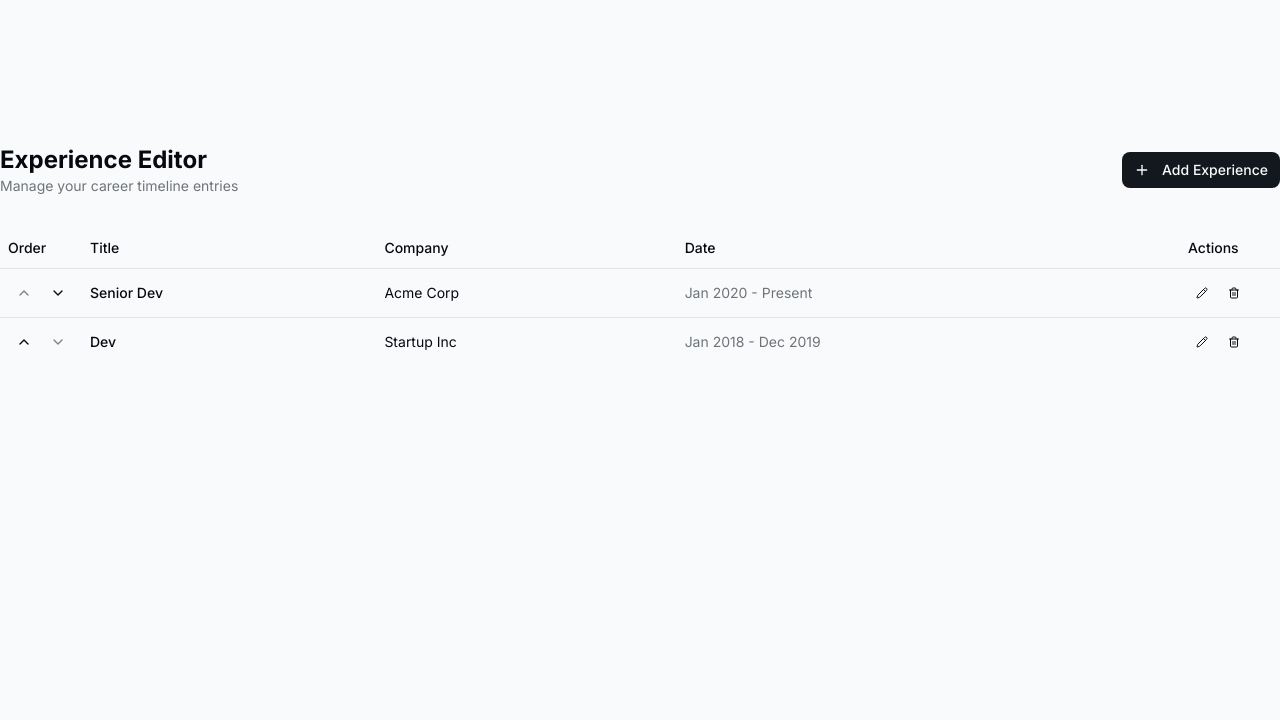
Test: ExperienceEditor › displays error message when create fails
This screenshot has width=1280, height=720.
Click the button "Add Experience".
click(1201, 170)  # box [1122,152,1279,188]
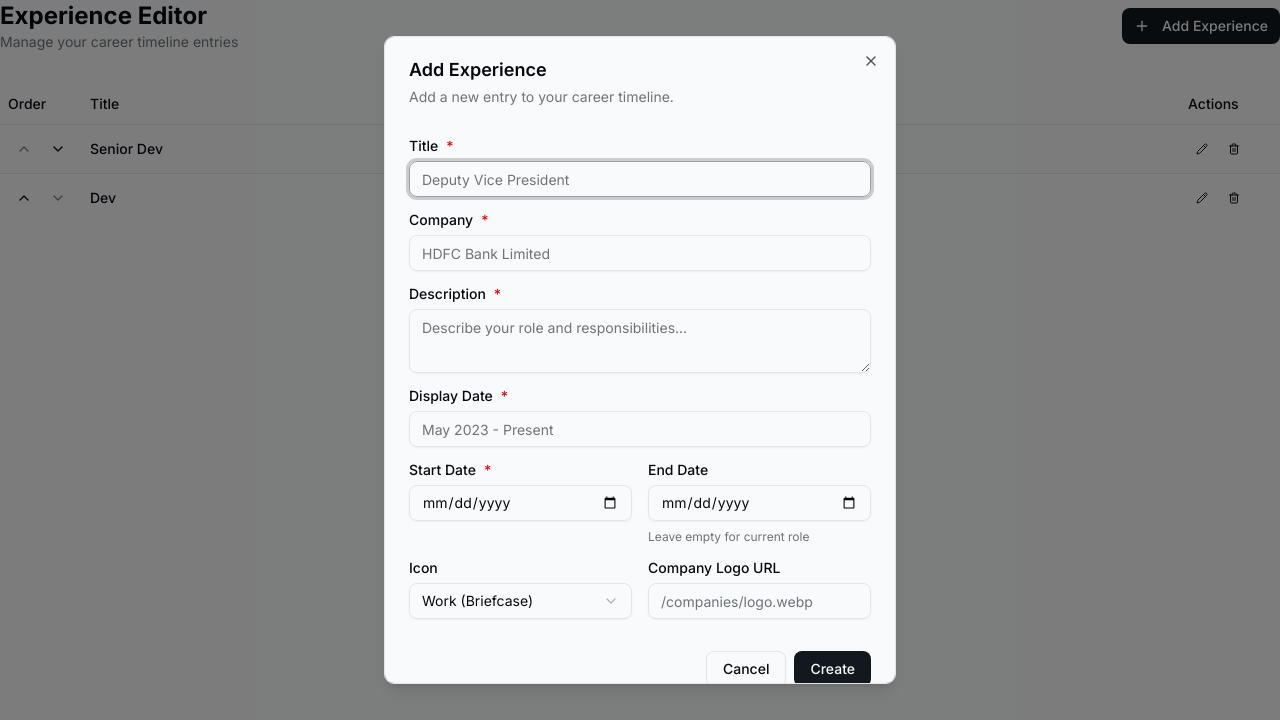
Type "Test" into the field labelled "Title *".
click(640, 179); type("Test")  # box [409,161,871,197]
Type "TestCo" into the field labelled "Company *".
click(640, 253); type("TestCo")  # box [409,235,871,271]
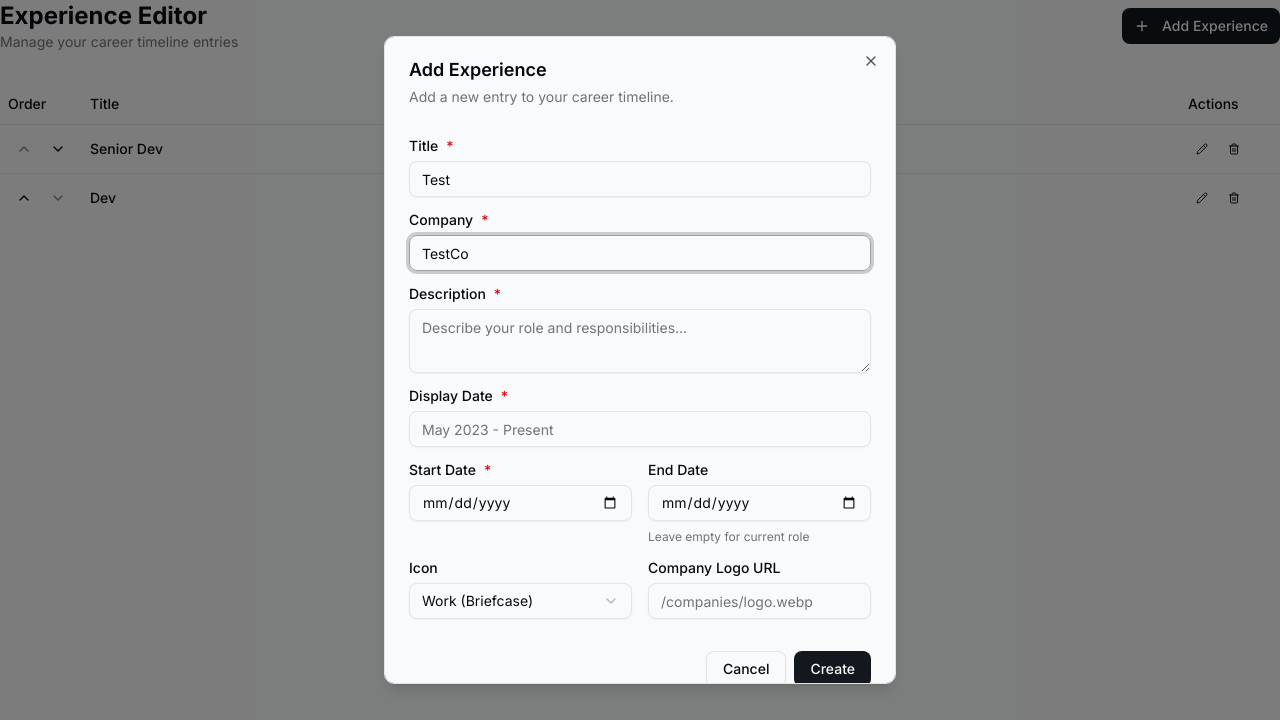
Type "Desc" into the text box labelled "Description *".
click(640, 341); type("Desc")  # box [409,309,871,373]
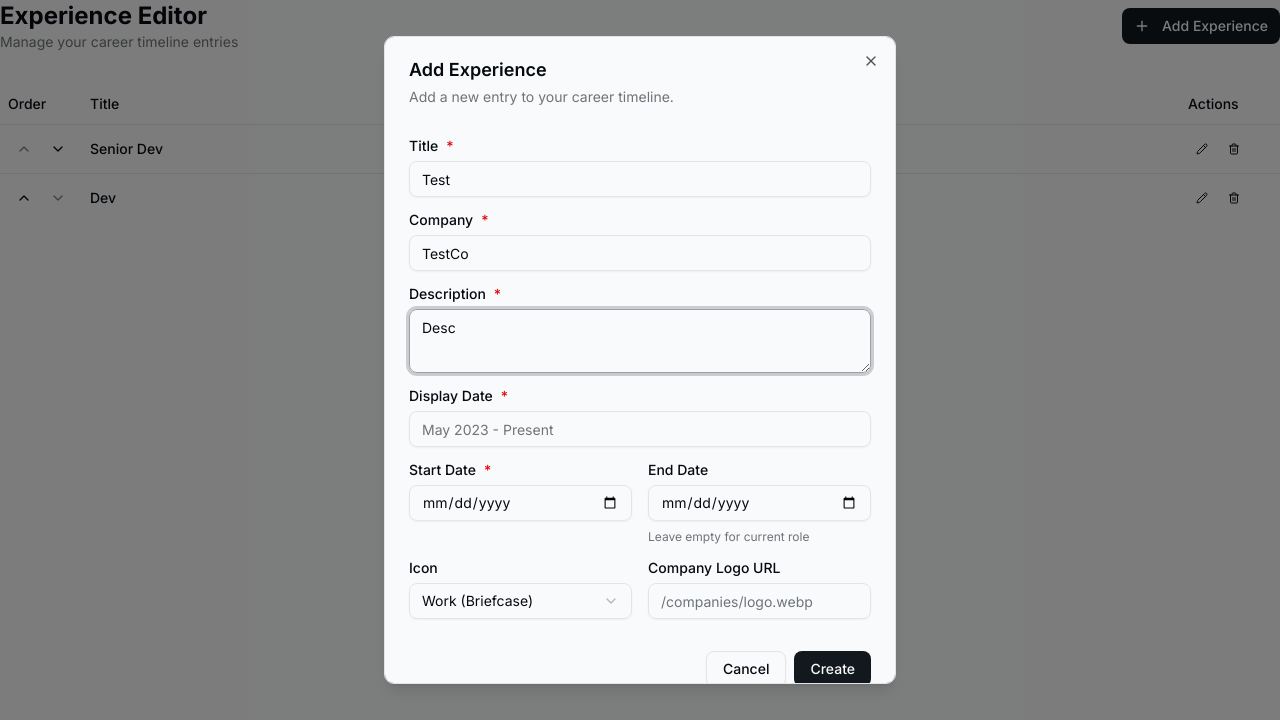
Type "2023" into the field labelled "Display Date *".
click(640, 429); type("2023")  # box [409,411,871,447]
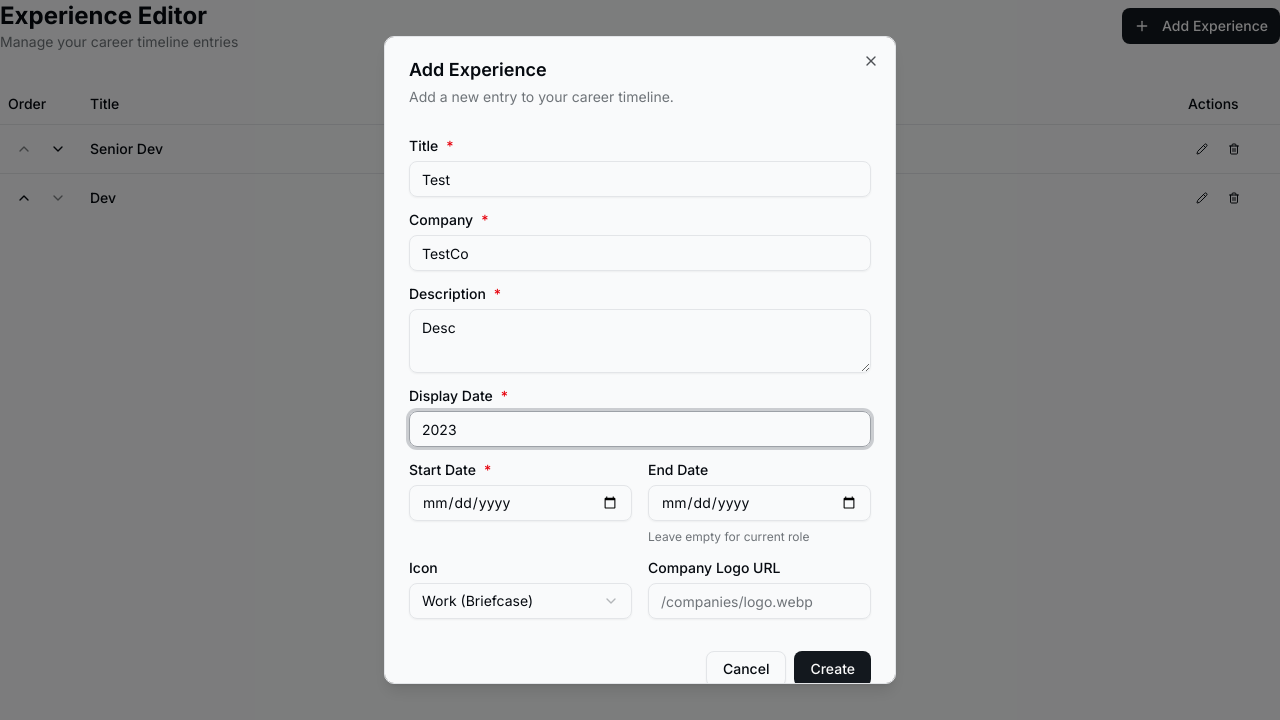
Type "2023-01-01" into the date field labelled "Start Date *".
click(520, 503); type("2023-01-01")  # box [409,485,632,521]
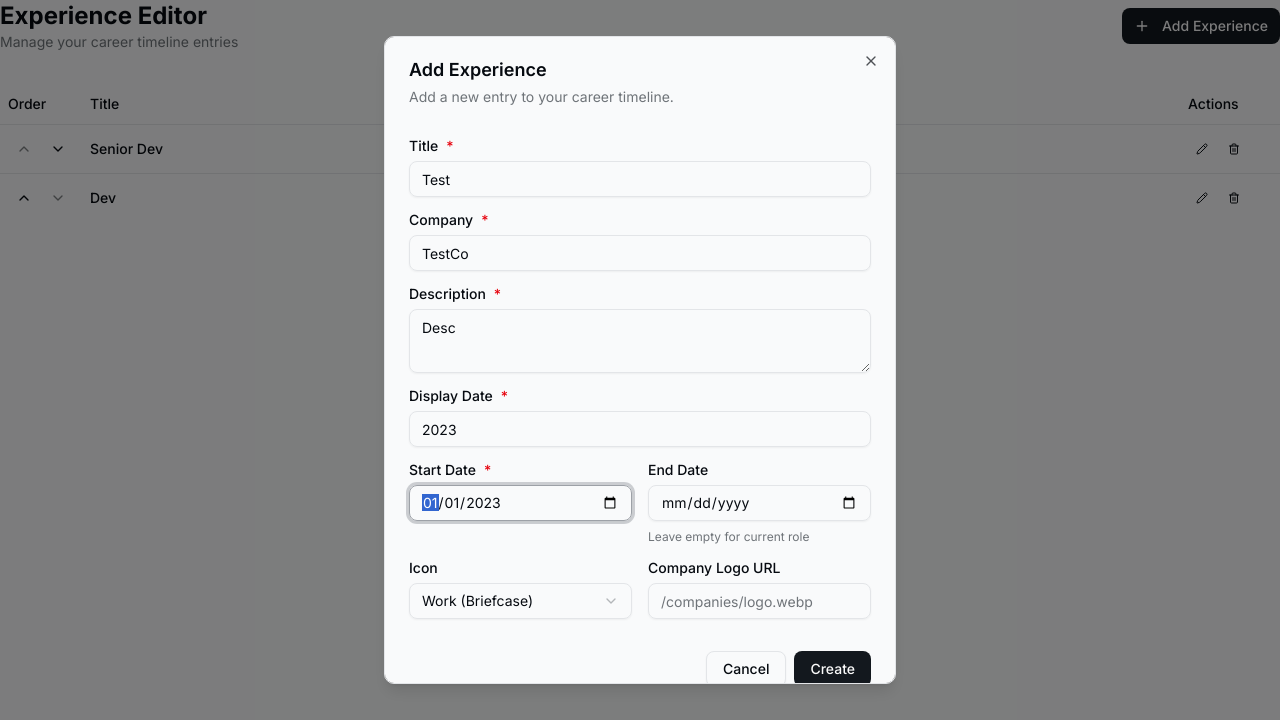
Click the button "Create".
click(833, 669)  # box [794,651,871,687]
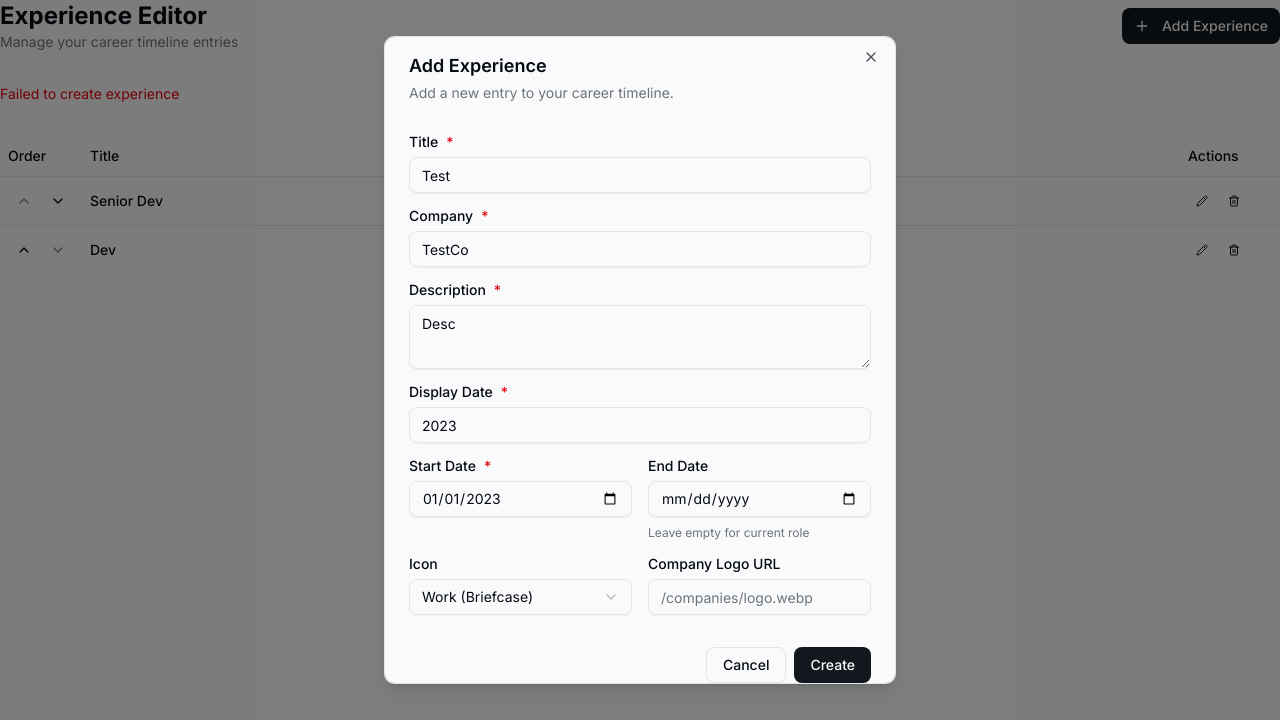
Expected: the text "Failed to create experience" is shown, [0,85,179,102]
